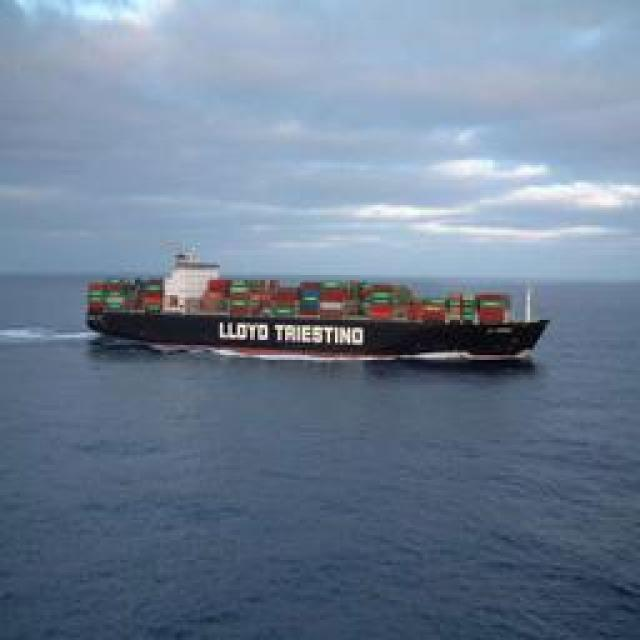ship2: (84, 239, 552, 362)
